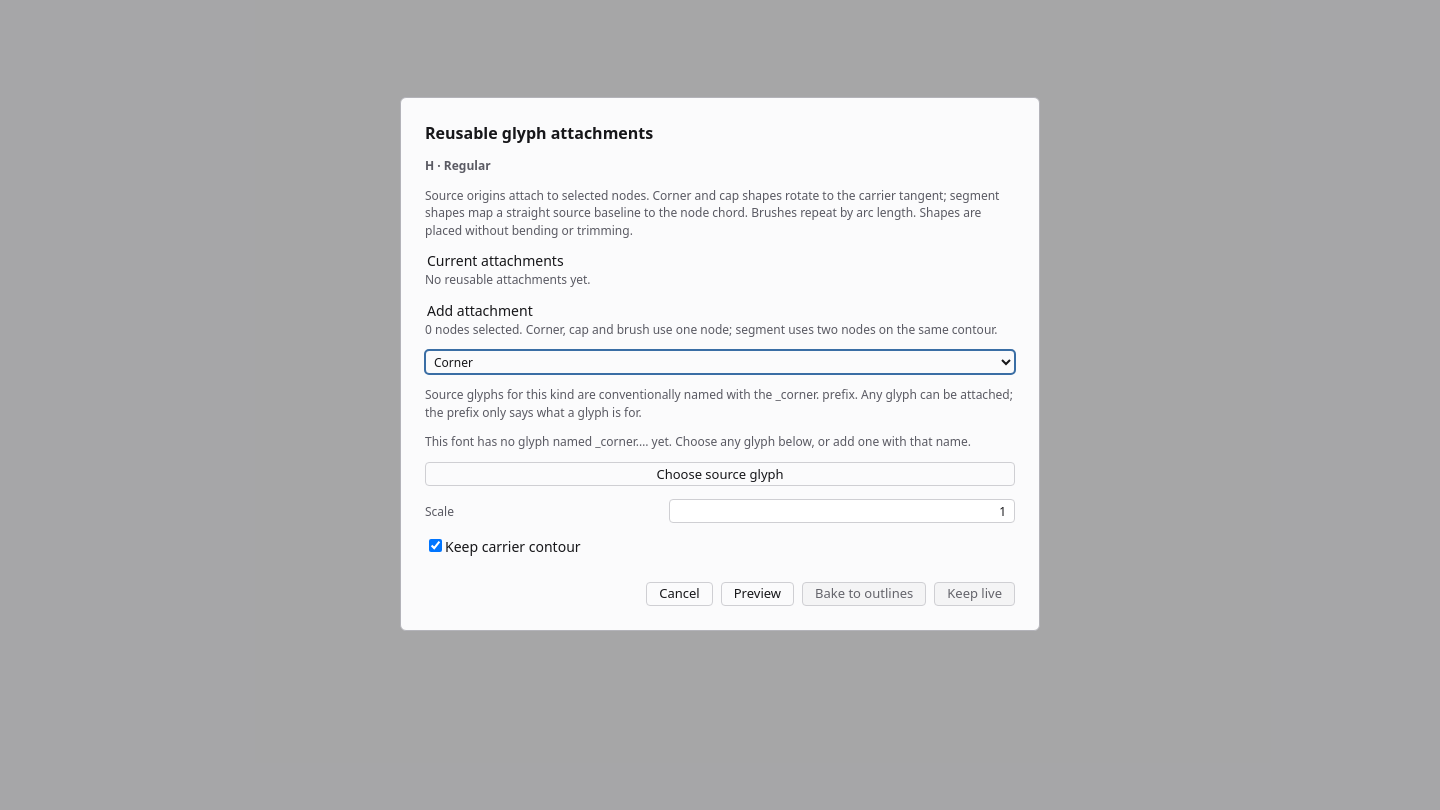
Test: reusable construction editor › drops reviewed preview after changing construction parameters
The width and height of the screenshot is (1440, 810).
Click the button "Preview": (757, 594) [721,582,794,606]
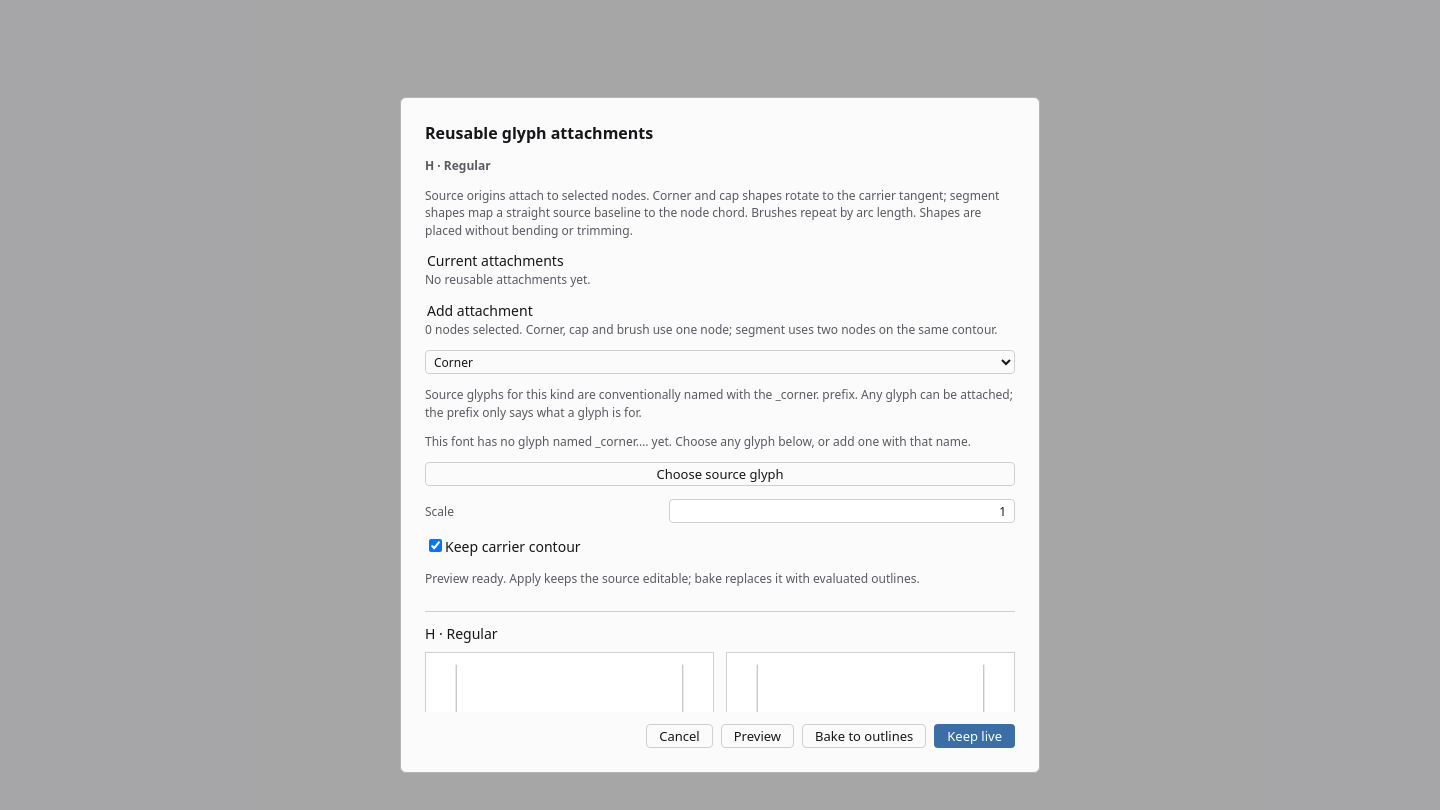
Expected: the button "Keep live" is enabled, [934,724,1015,748]
Select "Brush" in the dropdown named "Attachment kind": (720, 362) [425,350,1015,374]
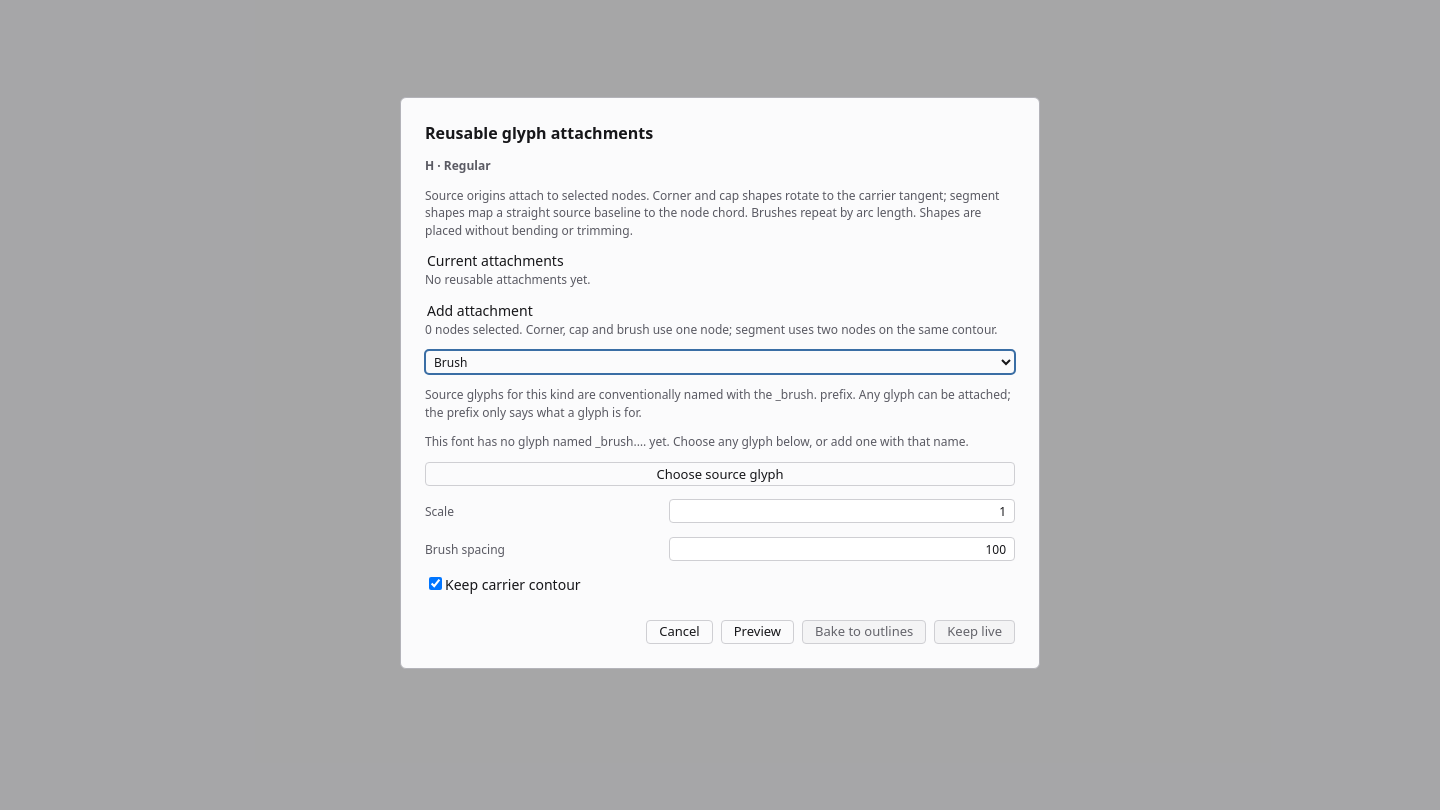
Expected: the button "Keep live" is disabled, [934,620,1015,644]
